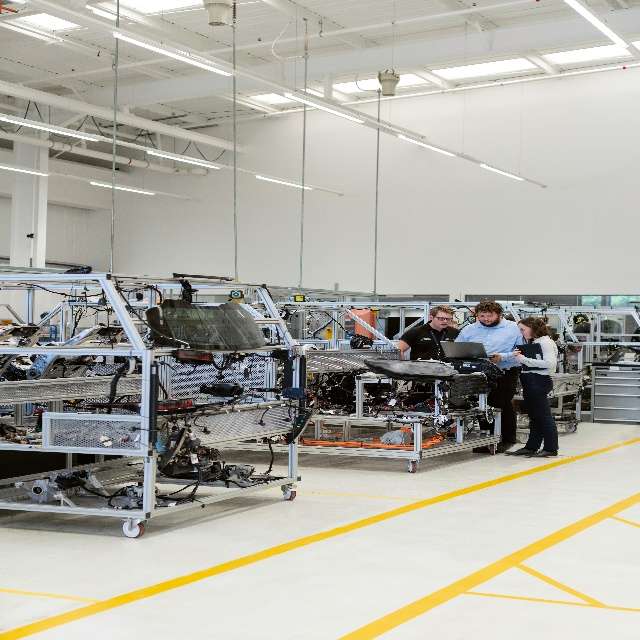Gafas: (437, 315, 452, 323), (519, 326, 524, 335)
Sin_guantes: (490, 352, 501, 361), (515, 353, 524, 362), (512, 347, 520, 355)
